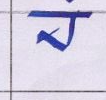anusvara: (66, 0, 73, 3)
